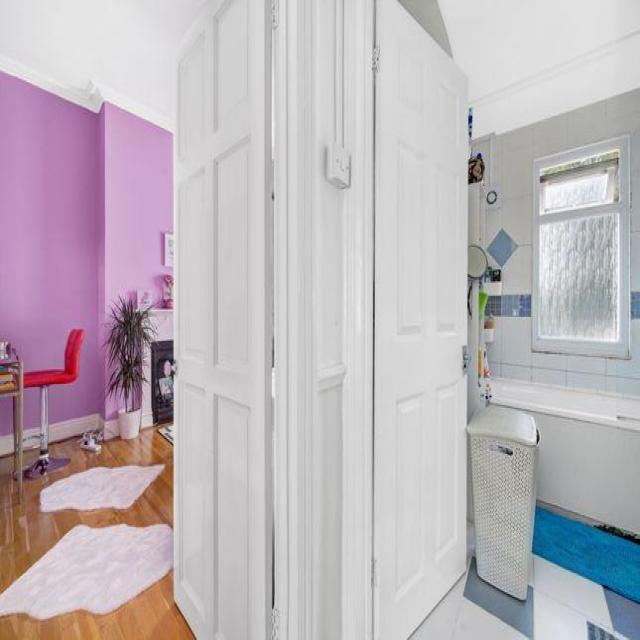Wall: (0, 73, 104, 423), (485, 90, 640, 310), (489, 317, 640, 533), (411, 506, 640, 638), (0, 426, 174, 592), (439, 0, 640, 136), (0, 0, 206, 130), (314, 0, 346, 638), (0, 525, 173, 619), (103, 103, 174, 318), (0, 572, 193, 639), (485, 294, 531, 317), (24, 389, 40, 428), (0, 399, 13, 436), (0, 452, 13, 477), (50, 441, 66, 456), (24, 450, 39, 466), (631, 292, 640, 318), (160, 426, 173, 438)
